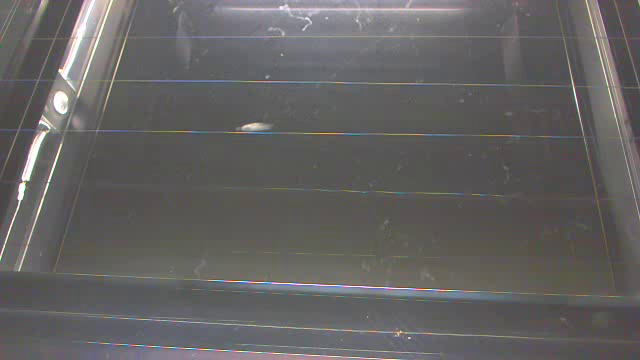alpha: (237, 122, 275, 131)
